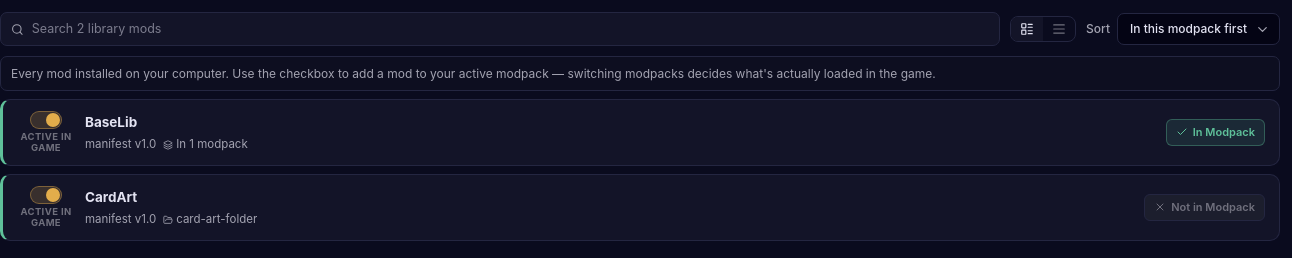
it: <LibraryTable> › search filters visible rows by name / folder
This screenshot has width=1292, height=258.
Type "card-art" into the field named "Search Mod Library" at (510, 29), box [32,20,989,38]
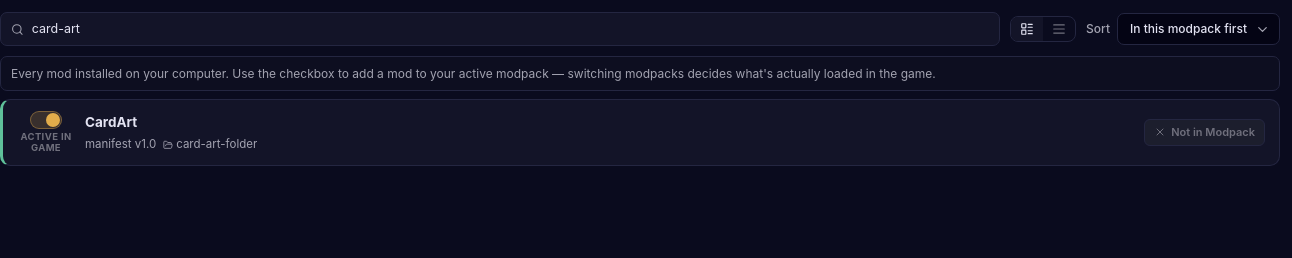
Expected: the heading "CardArt" is shown, [85,112,137,133]
Result: the heading "BaseLib" is gone
